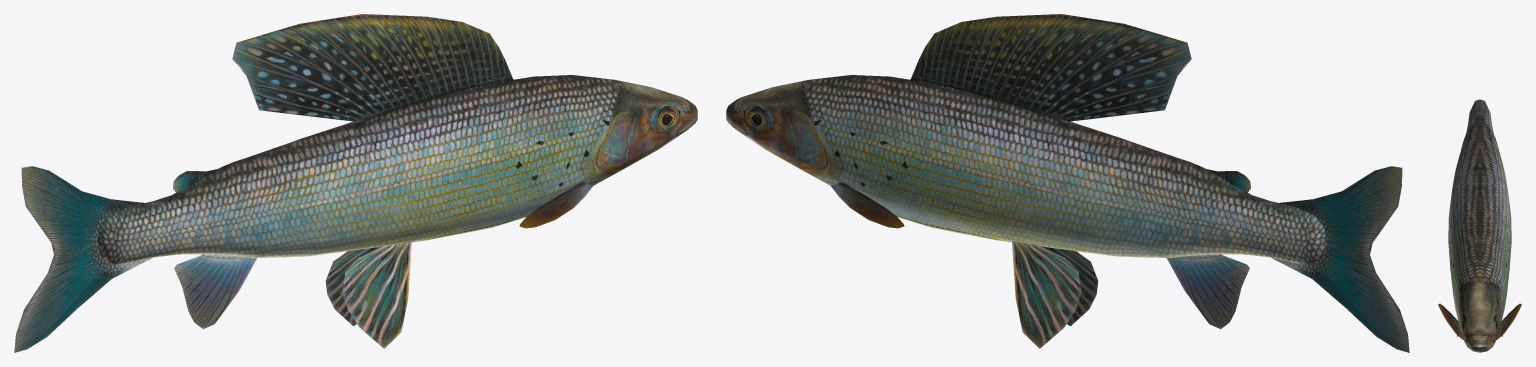
File: Grayling.glb
3 renders of one model, left to right at view 1: azimuth 30°, elevation 25°; view 2: azimuth 150°, elevation 25°; view 3: azimuth 270°, elevation 25°, orthographic. The views are drawn at different scales.
Visible parts, largest first — view 1: Grayling; view 2: Grayling; view 3: Grayling.
Boxes of the visible parts, x1,y1,x2,y2 form: Grayling: (14, 14, 697, 352); Grayling: (726, 14, 1409, 352); Grayling: (1438, 99, 1521, 352).
Size of the model in its own units: 2 by 0.9271 by 0.2788.
Materials: 1 (1 with a texture image).
